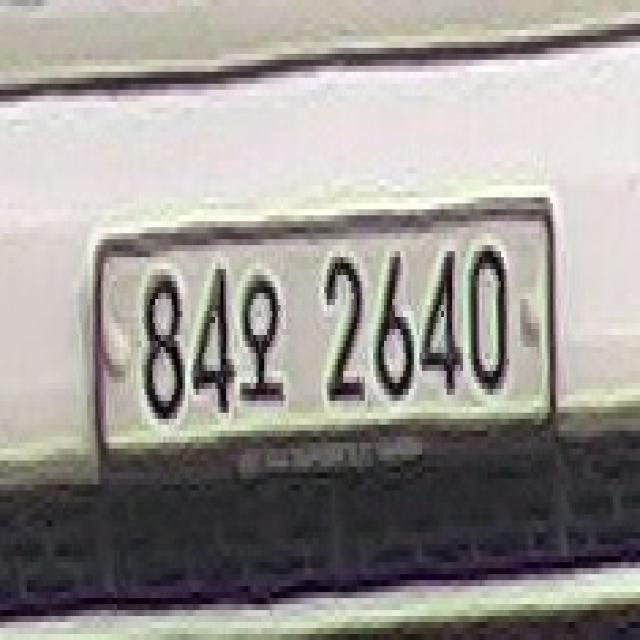plat: (90, 192, 558, 464)
